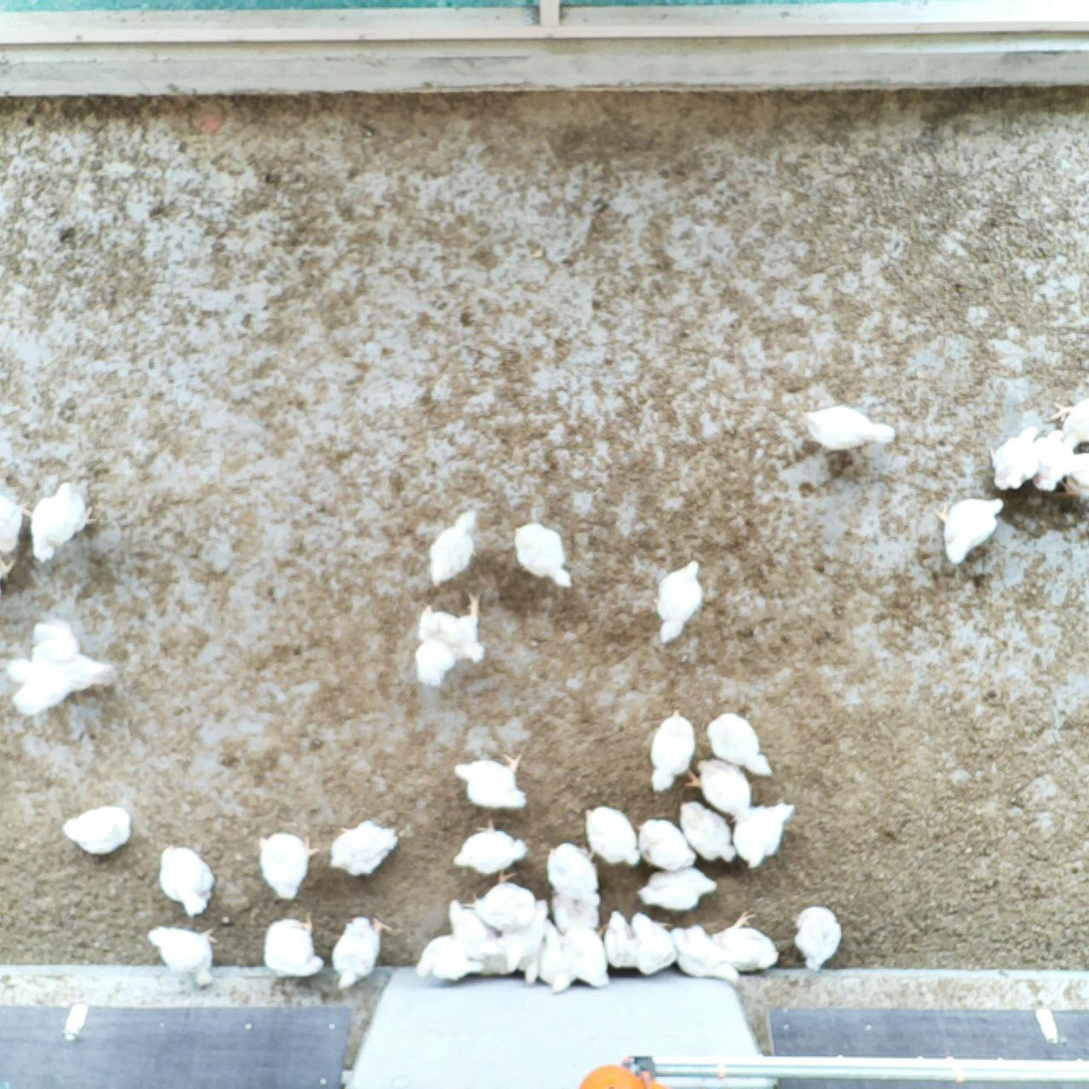chicken: (8, 617, 114, 715), (410, 595, 484, 688), (28, 475, 99, 561), (326, 911, 393, 995), (440, 900, 509, 977), (662, 919, 741, 986), (423, 505, 483, 592), (703, 710, 776, 781), (652, 554, 708, 646), (935, 492, 1004, 566), (449, 814, 530, 877), (458, 869, 539, 932), (452, 747, 531, 810), (556, 910, 615, 994), (704, 908, 780, 973), (141, 921, 216, 986), (325, 815, 400, 880), (685, 755, 753, 824), (511, 522, 576, 594), (802, 405, 897, 453), (158, 845, 219, 919), (646, 707, 697, 794), (259, 912, 325, 979), (409, 930, 482, 990), (501, 904, 552, 987), (734, 799, 794, 869), (258, 835, 319, 902), (527, 917, 579, 995), (636, 862, 717, 912), (63, 801, 135, 857), (541, 837, 604, 901), (789, 903, 844, 975), (677, 804, 737, 867), (582, 800, 639, 866), (991, 425, 1045, 493), (547, 883, 605, 940), (633, 817, 696, 869), (1024, 428, 1072, 495), (595, 904, 642, 972), (630, 910, 673, 981), (0, 484, 34, 553), (1044, 396, 1089, 448), (1057, 448, 1089, 504)
